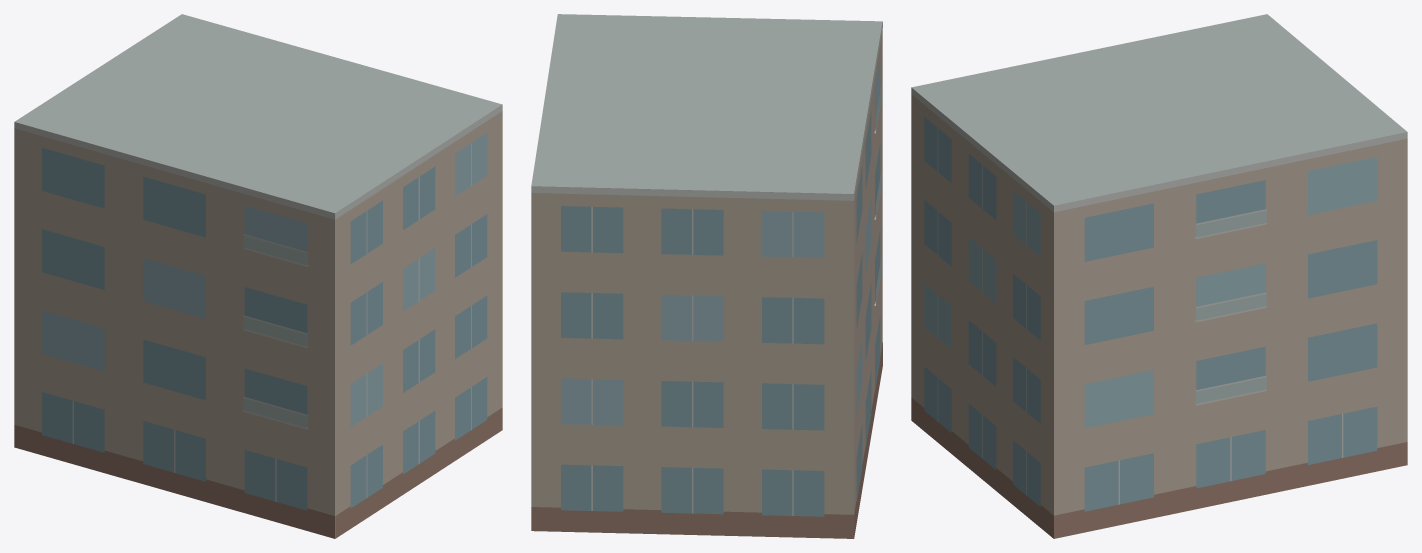
The model's file is survey-upis-32667907.glb.
3 renders of one model, left to right at view 1: azimuth 30°, elevation 25°; view 2: azimuth 150°, elevation 25°; view 3: azimuth 270°, elevation 25°, orthographic. The views are drawn at different scales.
Visible parts, largest first — view 1: survey-upis-32667907.tmp; view 2: survey-upis-32667907.tmp; view 3: survey-upis-32667907.tmp.
Part boxes in pixels (x1=…): survey-upis-32667907.tmp: x1=14, y1=14, x2=502, y2=538; survey-upis-32667907.tmp: x1=531, y1=14, x2=882, y2=538; survey-upis-32667907.tmp: x1=911, y1=14, x2=1407, y2=538.
Bounding box in the file's own units: 15.32 × 12.4 × 16.75.
